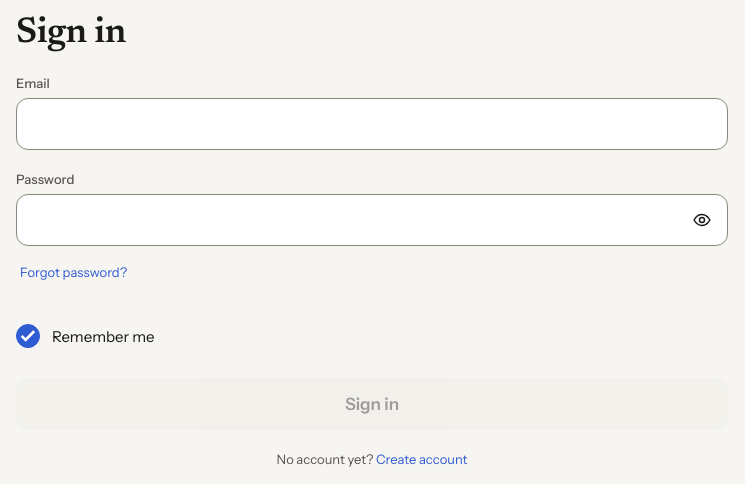
Sign in (AA-2) › T-AA-112: enables Sign in once both fields have text, including from autofill's input events
The image size is (745, 484).
Expected: the button "Sign in" is disabled, [16,378,728,430]
Type "example@gmail.com" into the field labelled "Email". click: (372, 124)
box: [16,98,728,150]
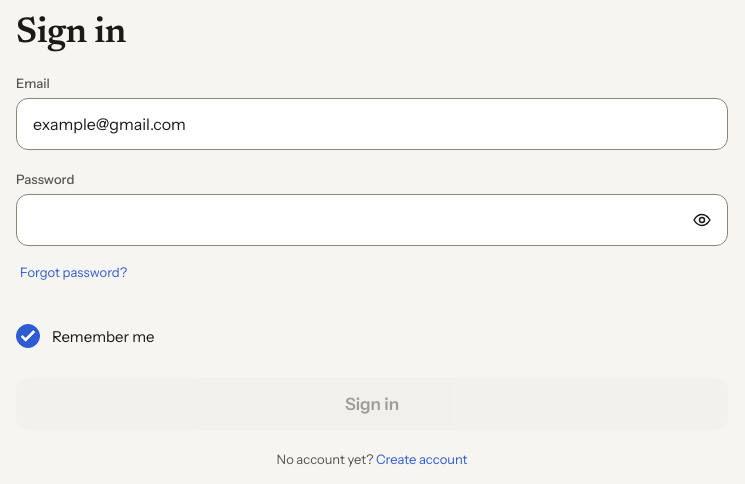
Expected: the button "Sign in" is disabled, [16,378,728,430]
Type "x" into the password field labelled "Password". click: (372, 220)
box: [16,194,728,246]
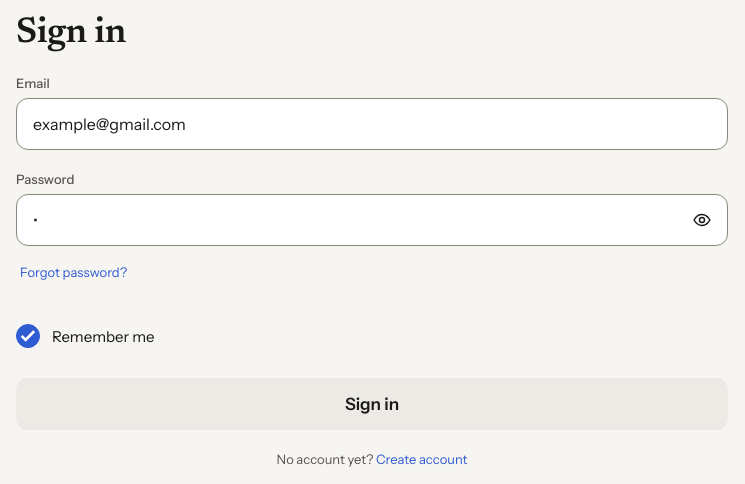
Now the button "Sign in" is enabled, box [16,378,728,430]
